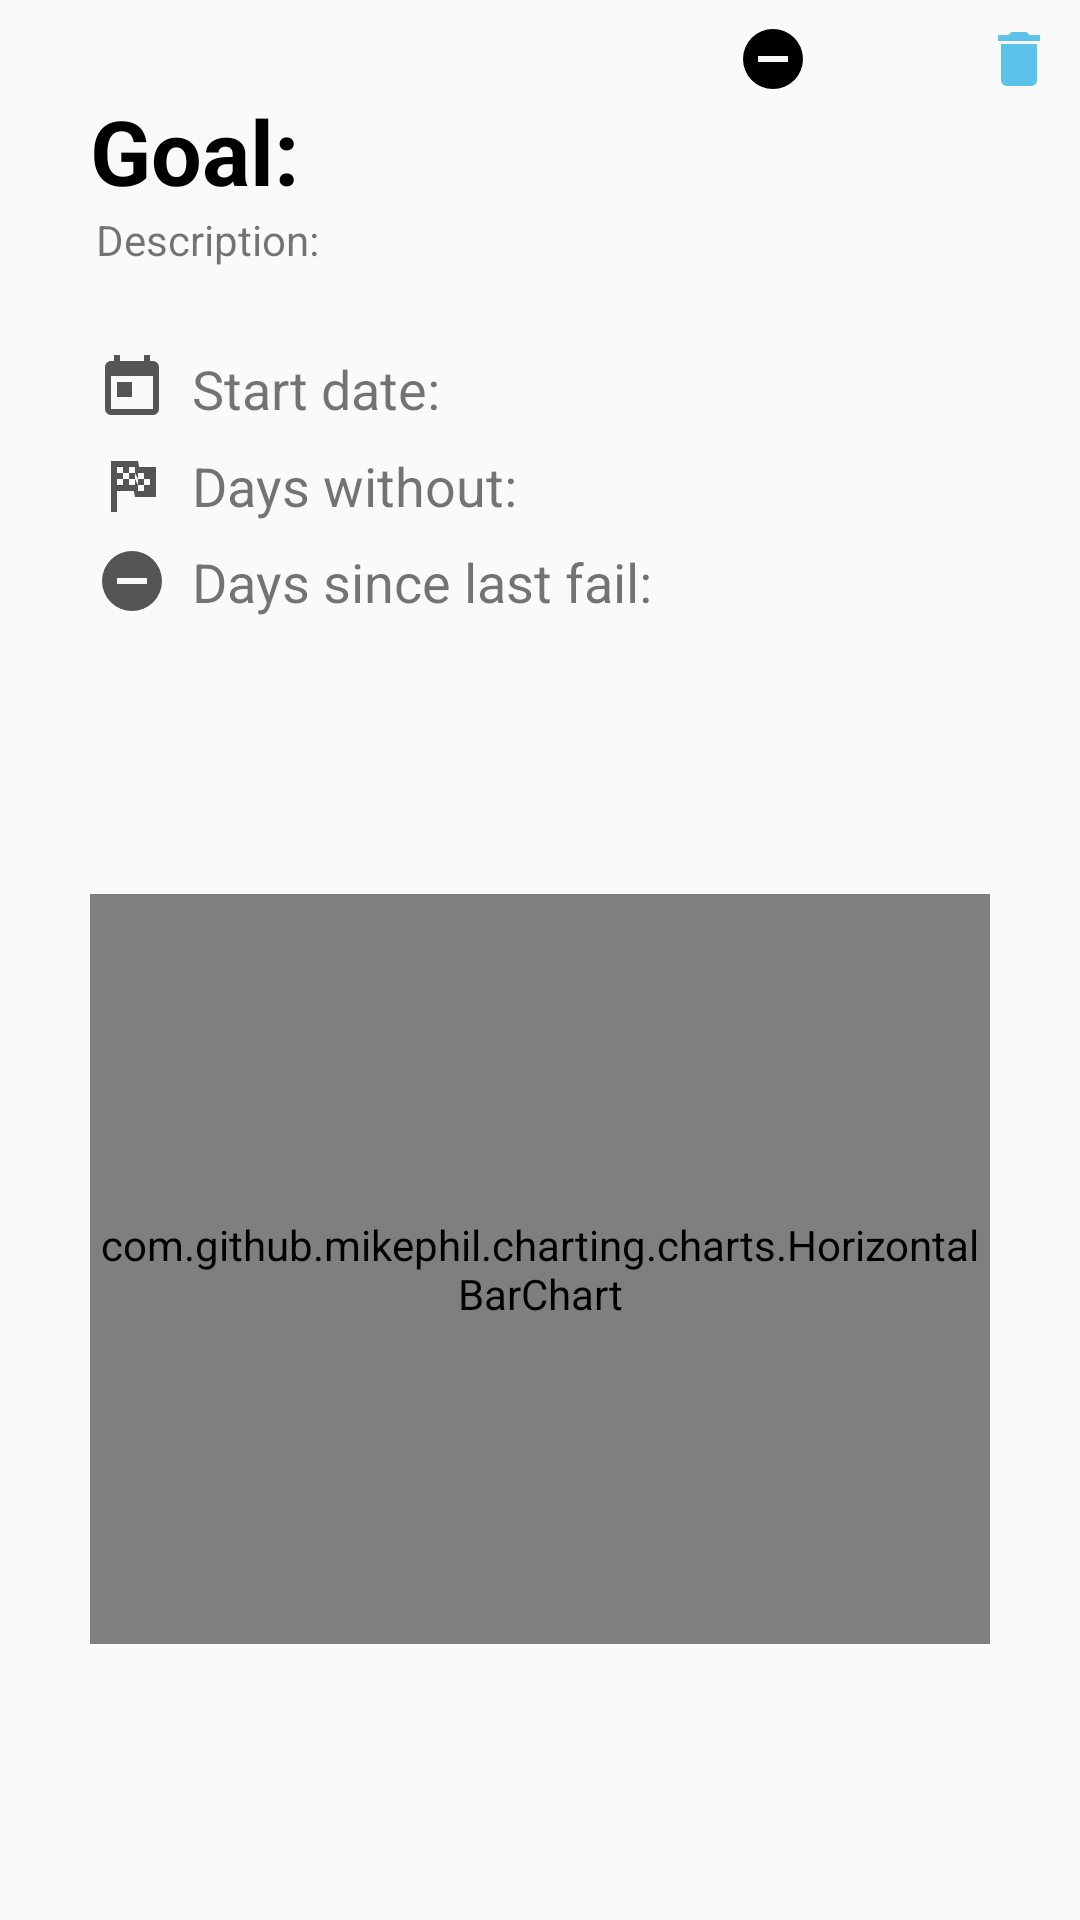

Named icons in this screenshot (1080 x 1920) and their centers, [x,y]:
calendar today: [132,385]
delete: [1019,59]
flag checkered: [133,486]
minus circle: [773,59], [132,581]
